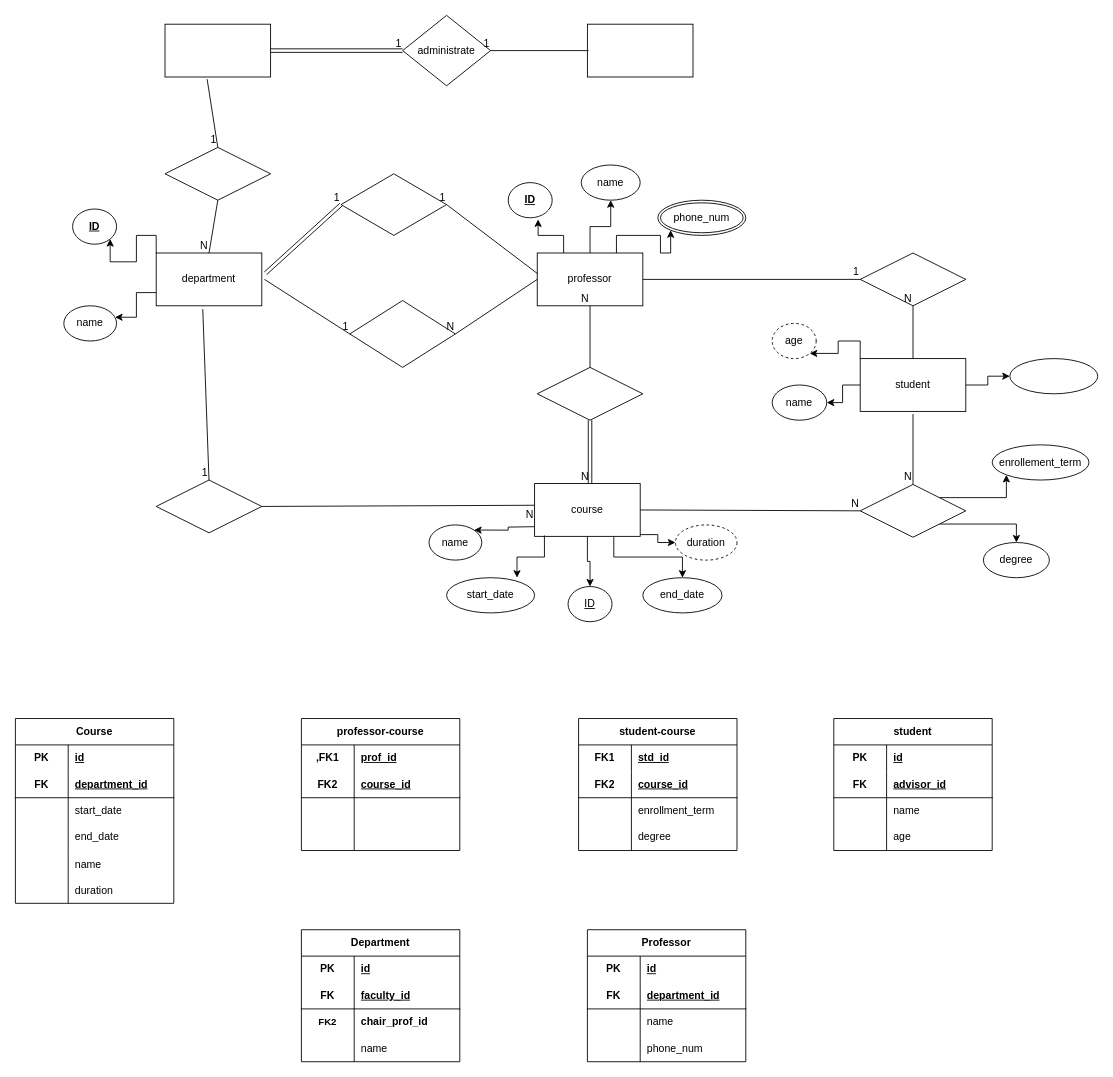
This 1113x1077 diagram has some shape labels left out. The centre of each missing label's shape, as x and y in pixels:
advise: (x=912, y=279)
chair: (x=393, y=204)
compose: (x=217, y=173)
dean: (x=640, y=50)
employs: (x=402, y=333)
enroll: (x=912, y=510)
faculty: (x=217, y=50)
national_id: (x=1053, y=376)
offers: (x=208, y=506)
teach: (x=589, y=393)
